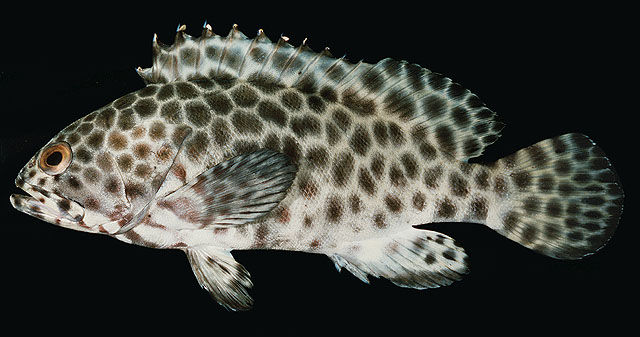fish: (9, 21, 626, 314)
